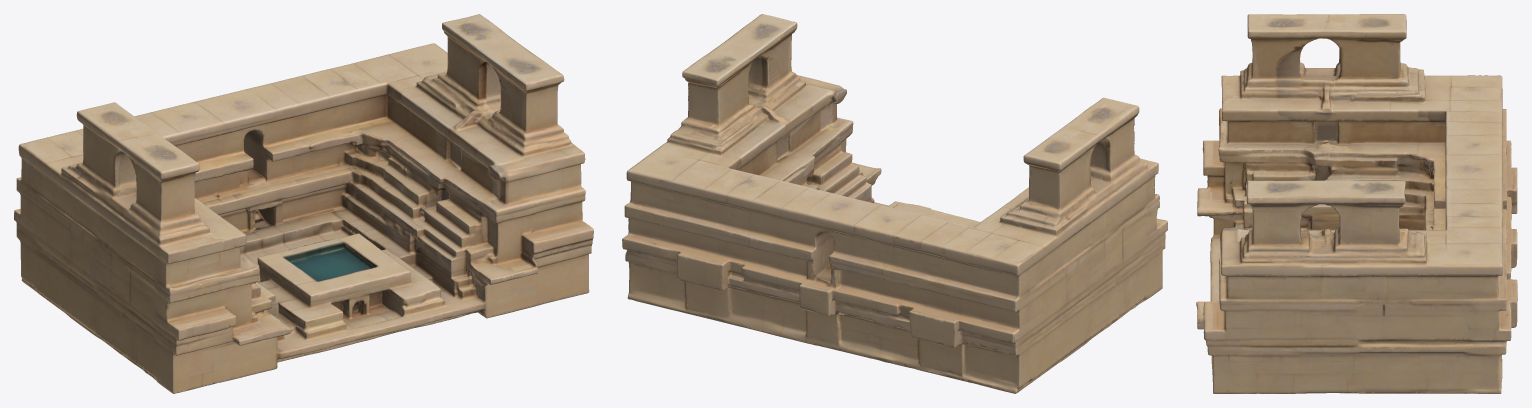
3 renders of one model, left to right at view 1: azimuth 30°, elevation 25°; view 2: azimuth 150°, elevation 25°; view 3: azimuth 270°, elevation 25°, orthographic. The views are drawn at different scales.
Bounding box in the file's own units: 2 × 0.9523 × 1.43.
1 material, 1 textured.
